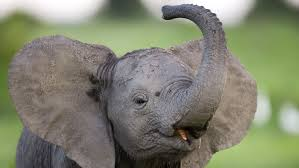elephant: (7, 3, 259, 168)
